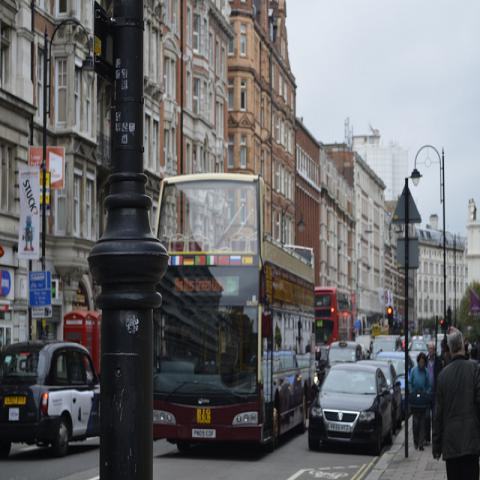bus: (154, 172, 316, 444), (315, 288, 355, 349)
car: (0, 339, 101, 457), (308, 362, 394, 457), (353, 358, 404, 434), (324, 340, 368, 382), (376, 349, 409, 398), (409, 338, 429, 367), (356, 336, 372, 354)
